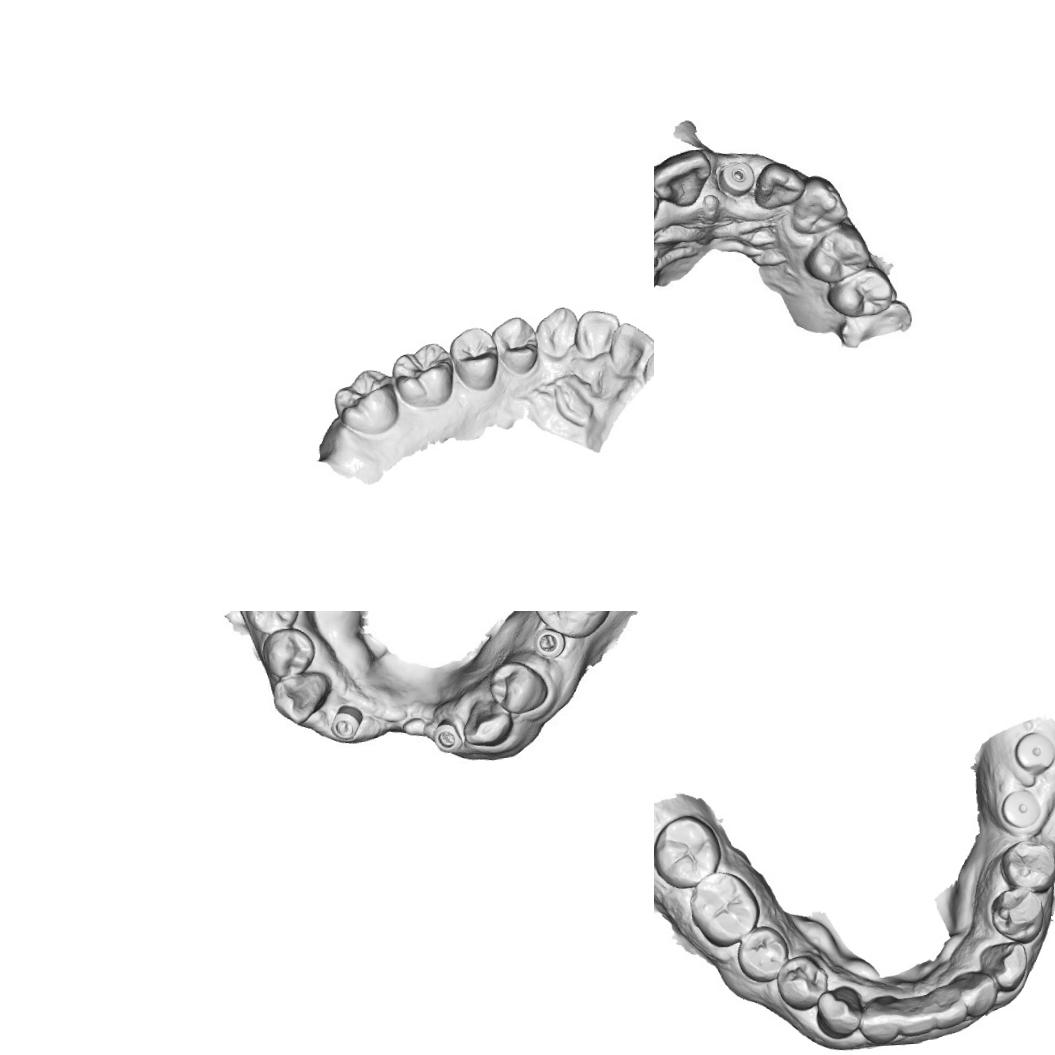canine: (974, 934, 1034, 995), (793, 178, 849, 234), (811, 984, 864, 1040), (531, 300, 579, 361)
implant: (709, 155, 760, 199), (1011, 727, 1055, 775), (999, 788, 1043, 832), (330, 704, 366, 743), (532, 622, 566, 662), (429, 716, 460, 755)
incisor: (654, 151, 715, 212), (269, 667, 330, 721), (572, 306, 624, 367), (853, 990, 904, 1046), (606, 318, 654, 377), (951, 966, 1001, 1021), (924, 974, 969, 1033), (460, 696, 510, 741), (761, 160, 804, 212), (895, 988, 938, 1039)
molar: (686, 868, 766, 953), (324, 360, 400, 438), (654, 811, 726, 893), (388, 339, 459, 412), (260, 623, 318, 684), (534, 611, 609, 638), (248, 611, 295, 628)
premolar: (801, 222, 874, 284), (446, 321, 506, 396), (733, 920, 792, 989), (987, 886, 1055, 945), (824, 268, 895, 324), (995, 835, 1055, 897), (489, 312, 541, 378), (774, 953, 830, 1013), (486, 660, 545, 715)
